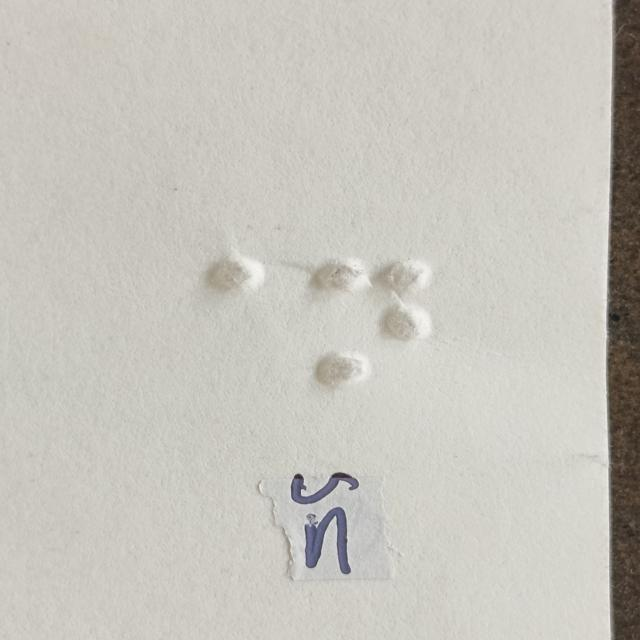dot_4: (148, 258, 263, 388)
letter_n: (316, 259, 431, 389)
